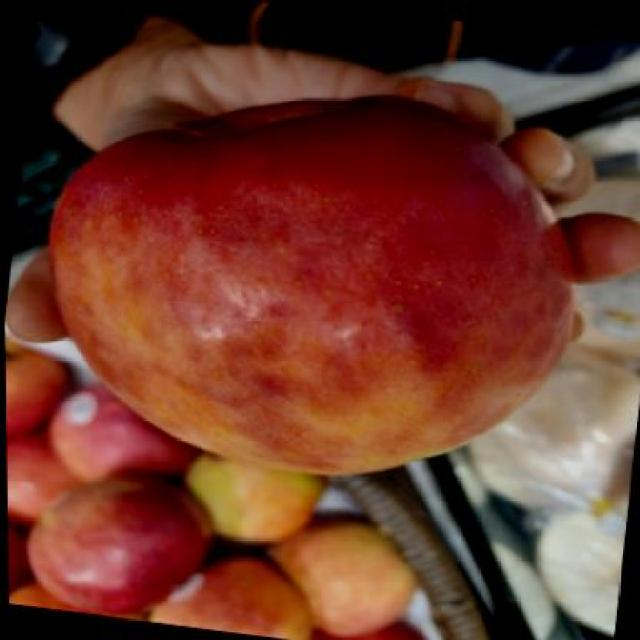Fresh Apple: (49, 110, 560, 488)
